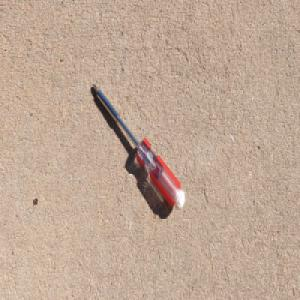Screwdriver: (90, 81, 186, 211)
